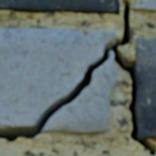brick: (135, 38, 155, 139), (0, 0, 119, 15), (131, 0, 155, 12)
broken_brick: (0, 29, 114, 129), (42, 51, 115, 133)
crack: (0, 0, 155, 155)
